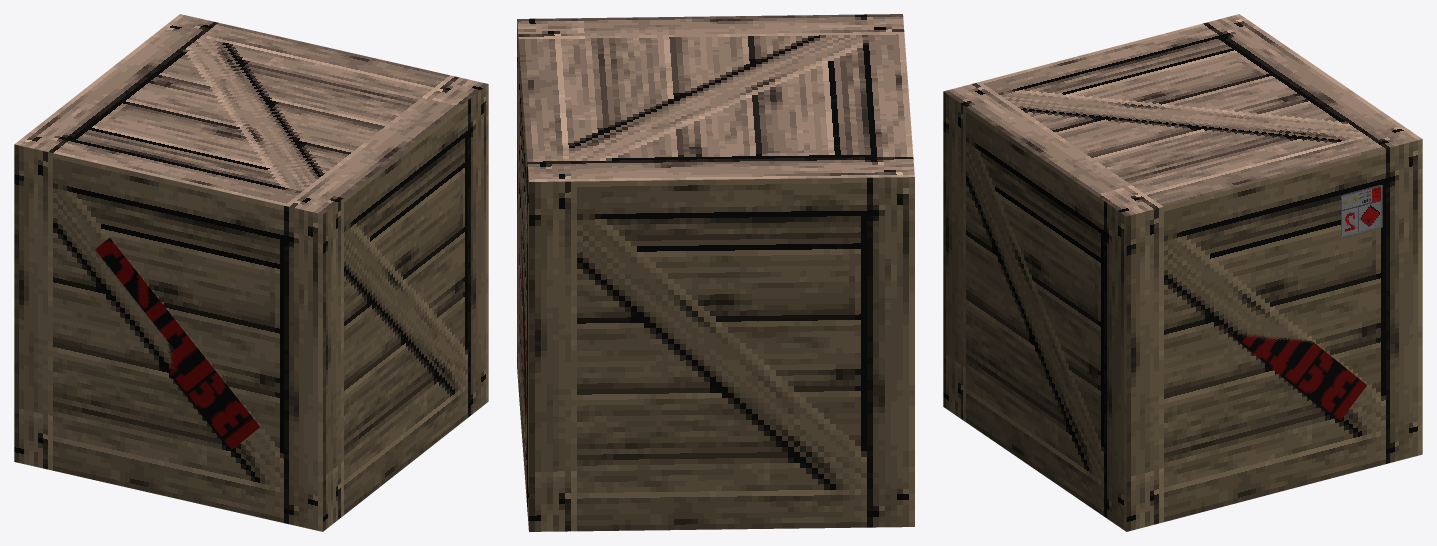
File: primary_114.glb
3 views of the same model, side by side, from view 1: azimuth 30°, elevation 25°; view 2: azimuth 150°, elevation 25°; view 3: azimuth 270°, elevation 25° (orthographic). The views are drawn at different scales.
Parts seen in each view (by area): view 1: Object; view 2: Object; view 3: Object.
Part boxes in pixels (x1=…): Object: x1=14, y1=14, x2=488, y2=531; Object: x1=517, y1=14, x2=914, y2=531; Object: x1=943, y1=14, x2=1422, y2=531.
Bounding box in the file's own units: 1.31 × 0.9499 × 1.31.
7 materials, 7 textured.
